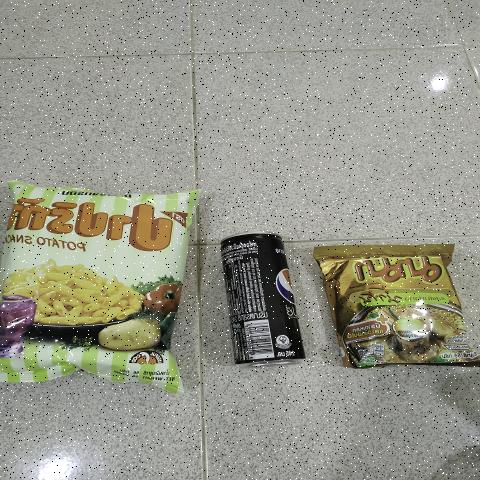mama: (331, 246, 447, 366)
paprika: (15, 192, 174, 393)
pepsi_black: (233, 237, 288, 366)
